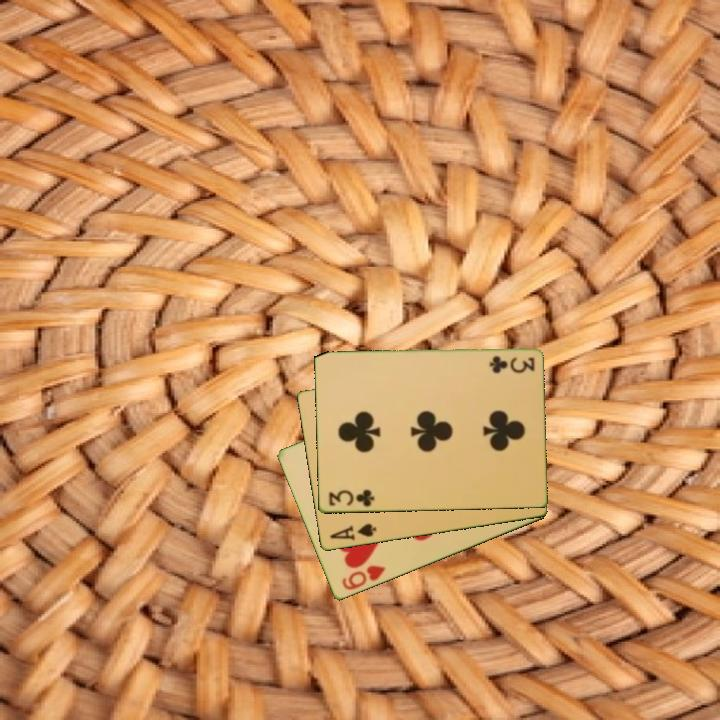3c: (325, 486, 377, 510), (486, 352, 537, 373)
6h: (338, 562, 388, 593)
As: (326, 520, 379, 543)
